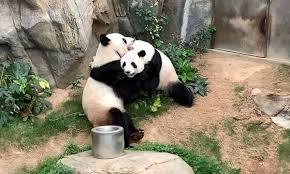bear: (82, 33, 145, 148), (122, 40, 195, 108)
